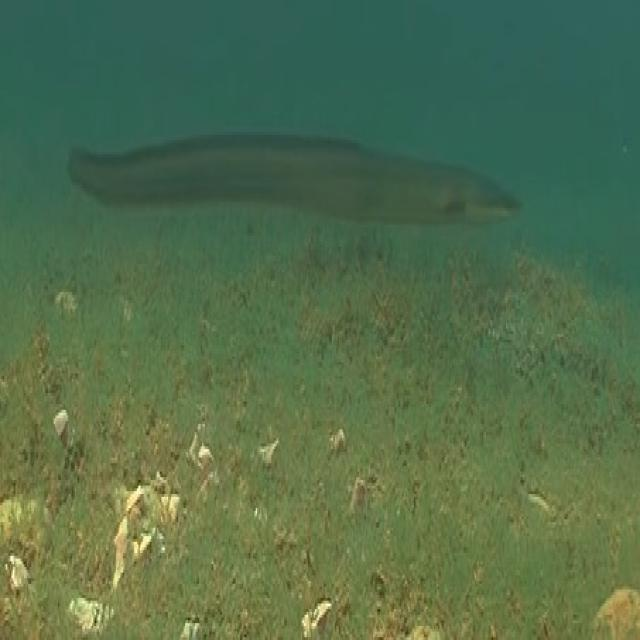Freshwater-Eel: (39, 55, 584, 312)
